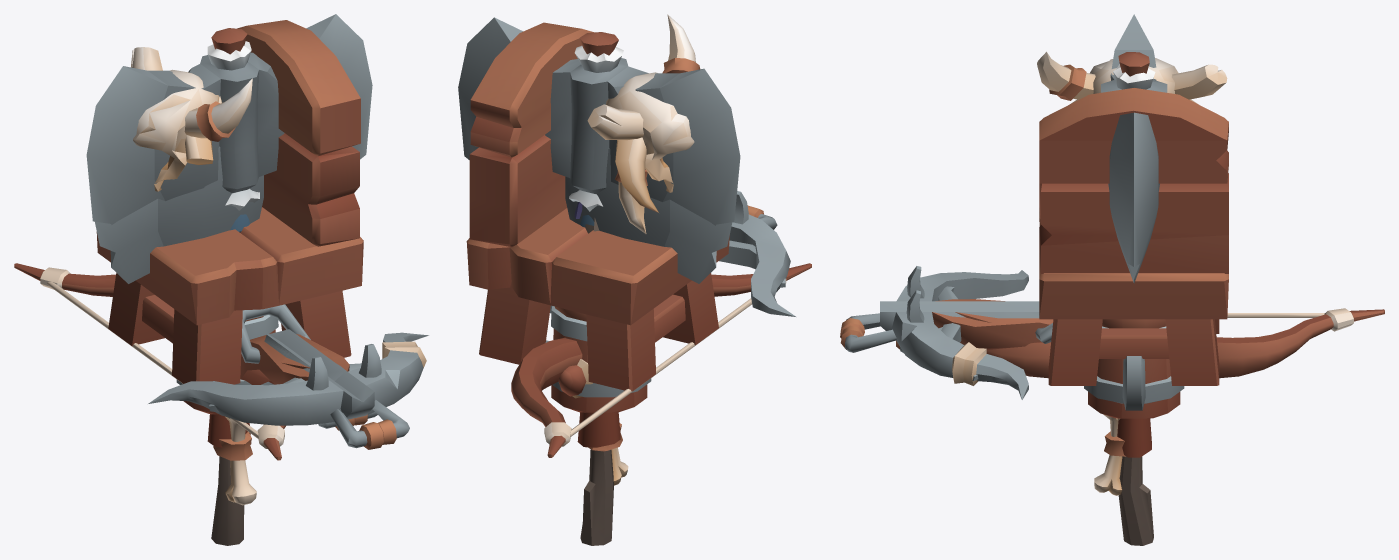
Rendered from props.glb.
3 renders of one model, left to right at view 1: azimuth 30°, elevation 25°; view 2: azimuth 150°, elevation 25°; view 3: azimuth 270°, elevation 25°, orthographic. The views are drawn at different scales.
Visible parts, largest first — view 1: Chair, Axe_2handed, Crossbow_2handed, Skeleton_Staff, Axe_1handed, Crossbow_1handed, Bow, Mug_empty; view 2: Chair, Axe_2handed, Skeleton_Staff, Axe_1handed, Bow, Crossbow_2handed, Mug_empty, Crossbow_1handed; view 3: Chair, Crossbow_2handed, Axe_2handed, Skeleton_Staff, Bow, Mug_empty, Crossbow_1handed.
Part boxes in pixels (x1,y1,x2,y2): Chair: [96, 20, 363, 384]; Axe_2handed: [86, 14, 372, 447]; Crossbow_2handed: [148, 330, 428, 449]; Skeleton_Staff: [131, 47, 256, 545]; Axe_1handed: [95, 146, 263, 283]; Crossbow_1handed: [209, 304, 377, 430]; Bow: [14, 263, 285, 460]; Mug_empty: [176, 315, 278, 414]; Chair: [466, 22, 729, 391]; Axe_2handed: [458, 17, 740, 447]; Skeleton_Staff: [574, 14, 700, 545]; Axe_1handed: [565, 148, 732, 283]; Bow: [511, 263, 811, 457]; Crossbow_2handed: [729, 191, 795, 316]; Mug_empty: [545, 305, 651, 412]; Crossbow_1handed: [558, 240, 785, 398]; Chair: [1039, 88, 1228, 385]; Crossbow_2handed: [840, 266, 1039, 399]; Axe_2handed: [1101, 14, 1167, 457]; Skeleton_Staff: [1037, 51, 1227, 545]; Bow: [986, 308, 1384, 378]; Mug_empty: [1084, 319, 1184, 418]; Crossbow_1handed: [896, 286, 1053, 381].
Size of the model in its own units: 1.24 by 2.14 by 2.16.
5 materials, 5 textured.
